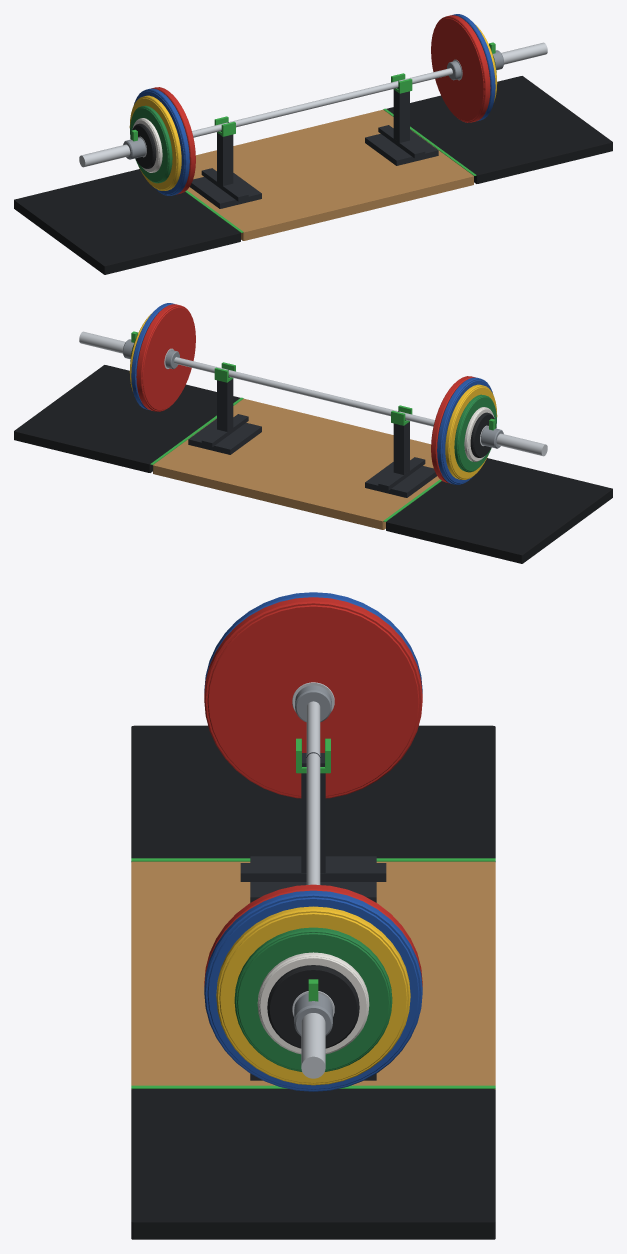
File: barbell.glb
The picture shows the model from 3 angles, top to bottom: view 1: azimuth 30°, elevation 25°; view 2: azimuth 150°, elevation 25°; view 3: azimuth 270°, elevation 25°; orthographic projection. The views are drawn at different scales.
Parts seen in each view (by area): view 1: Barbell; view 2: Barbell; view 3: Barbell.
Boxes of the visible parts, x1=… form: Barbell: x1=14, y1=14, x2=612, y2=274; Barbell: x1=14, y1=303, x2=612, y2=563; Barbell: x1=131, y1=592, x2=495, y2=1239.
Bounding box in the file's own units: 2.42 × 0.5648 × 0.7501.
Materials: 1 (1 with a texture image).
